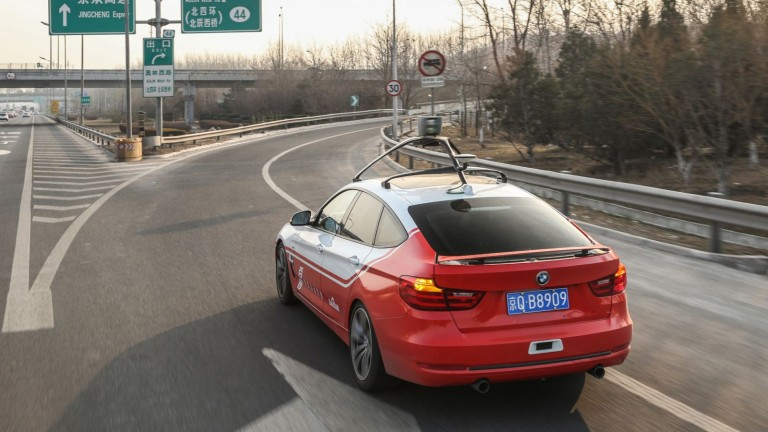car: (250, 164, 644, 386)
